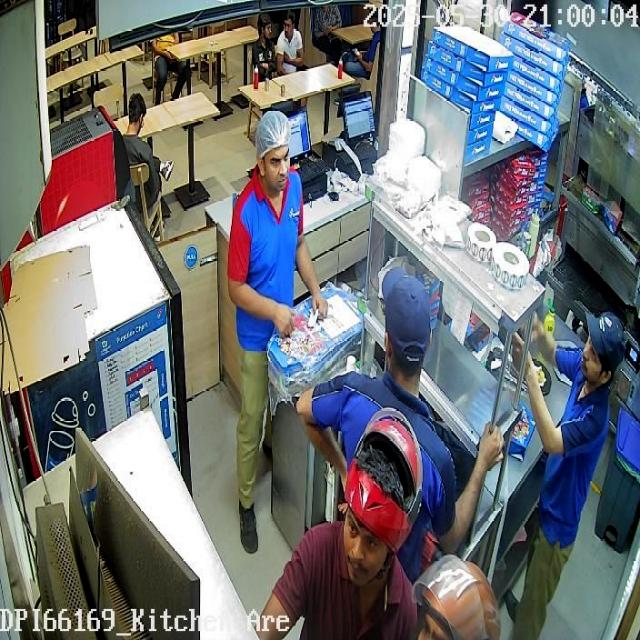helmet: (343, 404, 426, 559), (411, 556, 501, 639)
